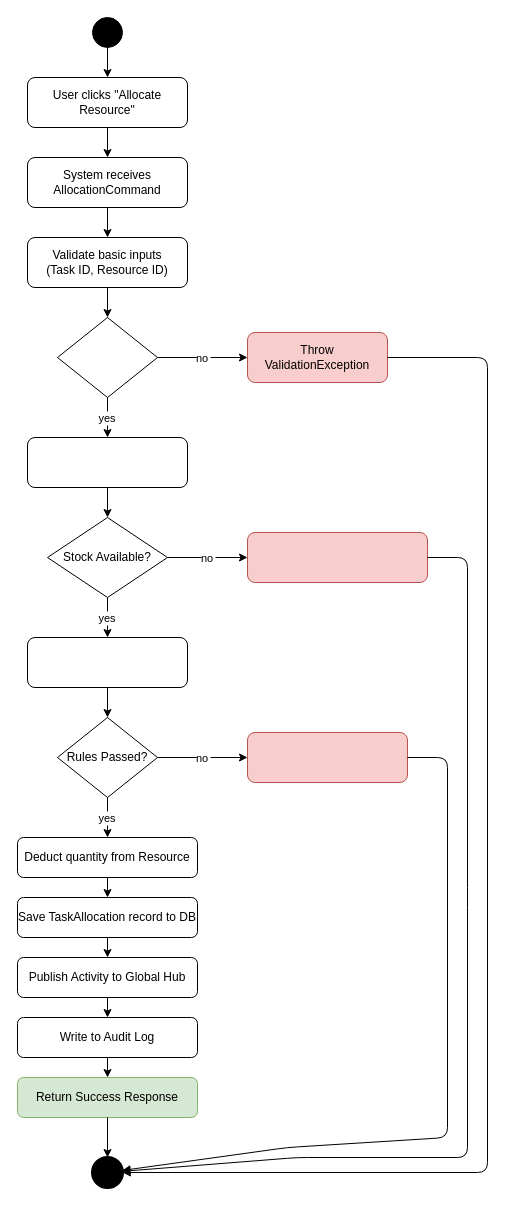
Image size: 513x1206. Some labels were removed from this diagram. Each missing label, with the centre of its shape:
"Apply category rules (Material/Equipment/Labor)" goes at point 107,662.
"Check current inventory levels" goes at point 107,462.
"Inputs Valid?" goes at point 107,357.
"Throw DomainValidationException" goes at point 327,757.
"Throw InsufficientResourceException" goes at point 337,557.
